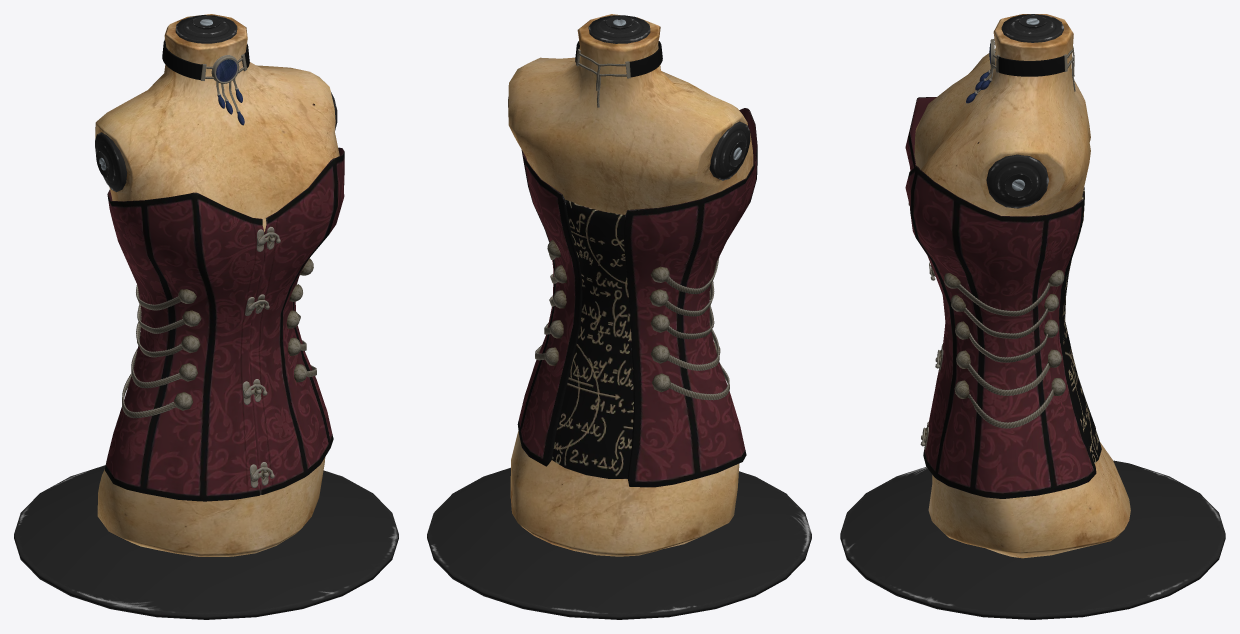
The model's file is corset.glb.
3 renders of one model, left to right at view 1: azimuth 30°, elevation 25°; view 2: azimuth 150°, elevation 25°; view 3: azimuth 270°, elevation 25°, orthographic.
Visible parts, largest first — view 1: Corset; view 2: Corset; view 3: Corset.
Part boxes in pixels (box(x1,y1,x2,y2)): Corset: box(14, 14, 398, 619); Corset: box(427, 14, 811, 619); Corset: box(840, 14, 1225, 619).
Size of the model in its own units: 0.039 by 0.0578 by 0.039.
1 material, 1 textured.
